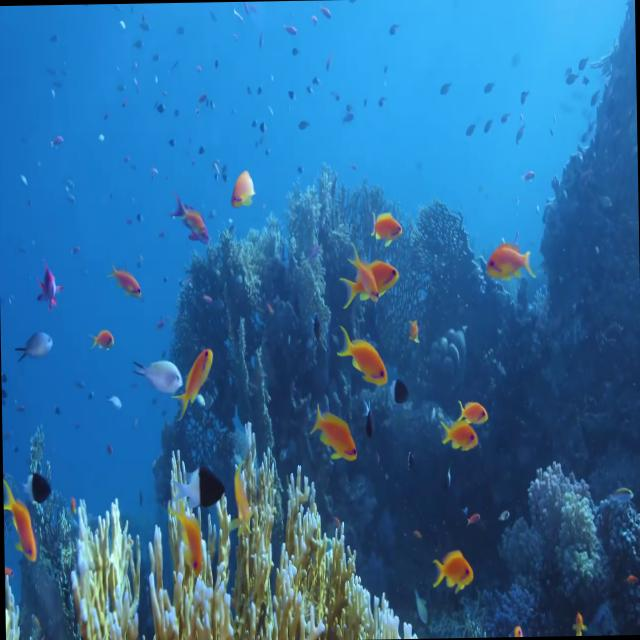fish: (338, 326, 387, 390), (2, 478, 36, 566), (345, 258, 398, 312), (176, 349, 214, 422), (309, 408, 356, 464), (172, 193, 210, 246), (132, 360, 184, 396), (486, 242, 534, 278), (432, 551, 473, 590), (14, 328, 53, 362), (442, 420, 478, 456), (368, 209, 402, 246), (457, 398, 490, 428)
